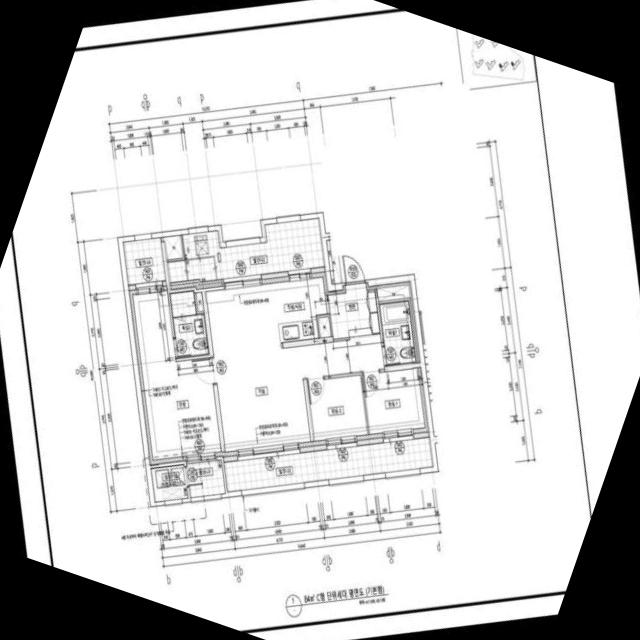background: (0, 0, 640, 640)
space_balconi: (223, 436, 432, 491), (167, 217, 324, 281), (122, 237, 165, 283), (186, 459, 224, 496)
space_bedroom: (128, 285, 221, 464), (362, 367, 428, 437), (307, 374, 367, 444)
space_front: (327, 282, 379, 338)
space_kitchen: (272, 271, 327, 341)
space_living_room: (205, 278, 384, 455)
space_other: (376, 281, 412, 300), (162, 234, 182, 258), (318, 316, 330, 337), (195, 291, 203, 310)
space_outdoor_room: (150, 464, 187, 501)
space_toilet: (169, 289, 208, 357), (379, 300, 415, 365)
